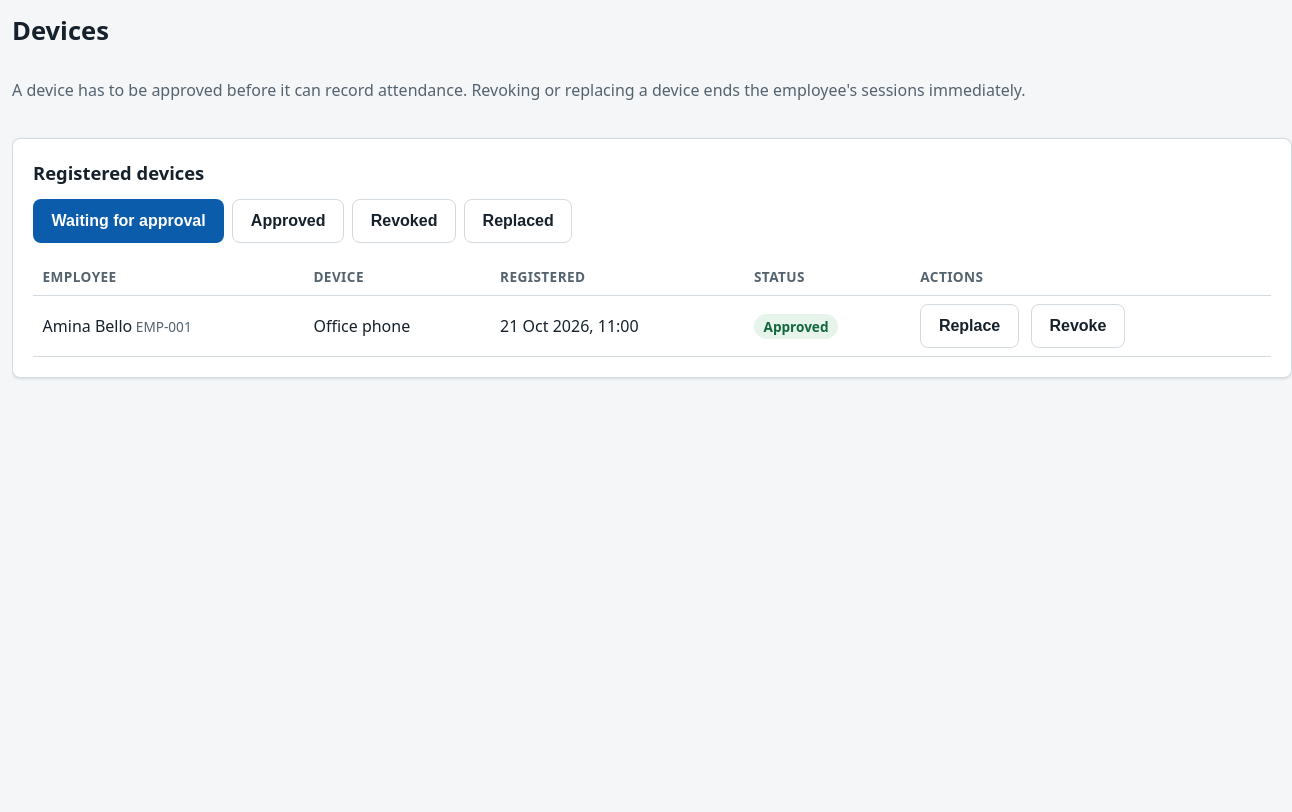
Scenario: device administration › asks for a reason before a device is revoked
Check: the heading "Devices" is shown, box 12,13 -> 109,48
Click the button "Revoke". click: (1078, 326)
box: 1031,304 -> 1125,348
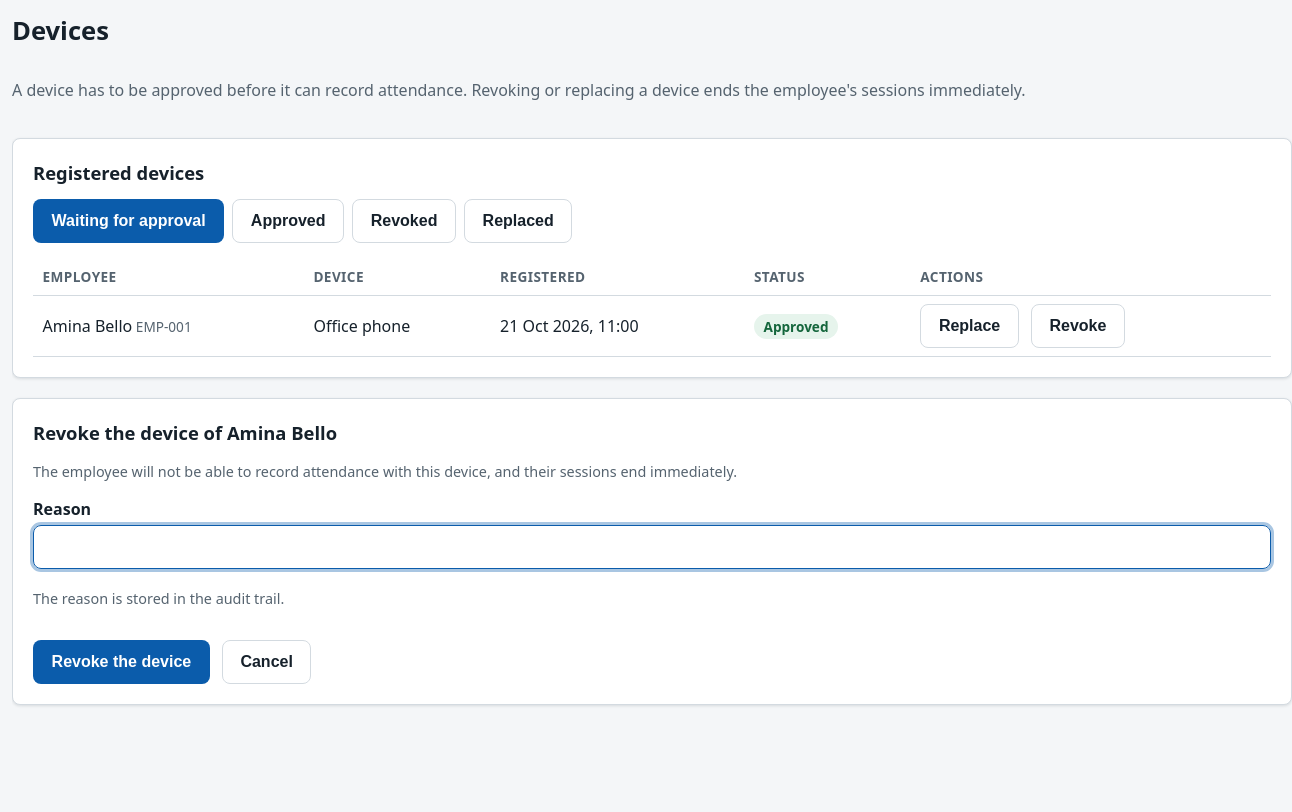
Click the button "Revoke the device". click: (121, 662)
box: 33,640 -> 210,684
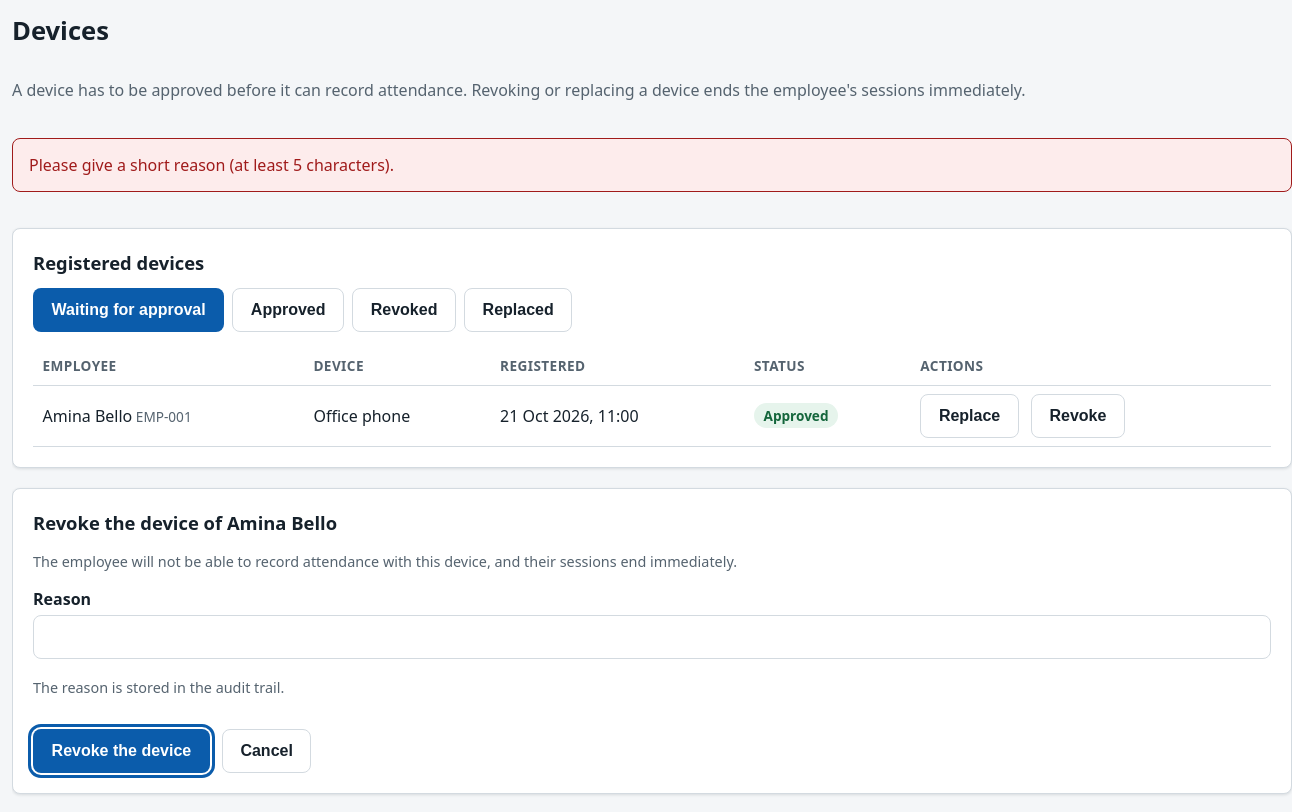
Check: the text "Please give a short reason (at least 5 characters)." is shown, box 29,154 -> 394,176
